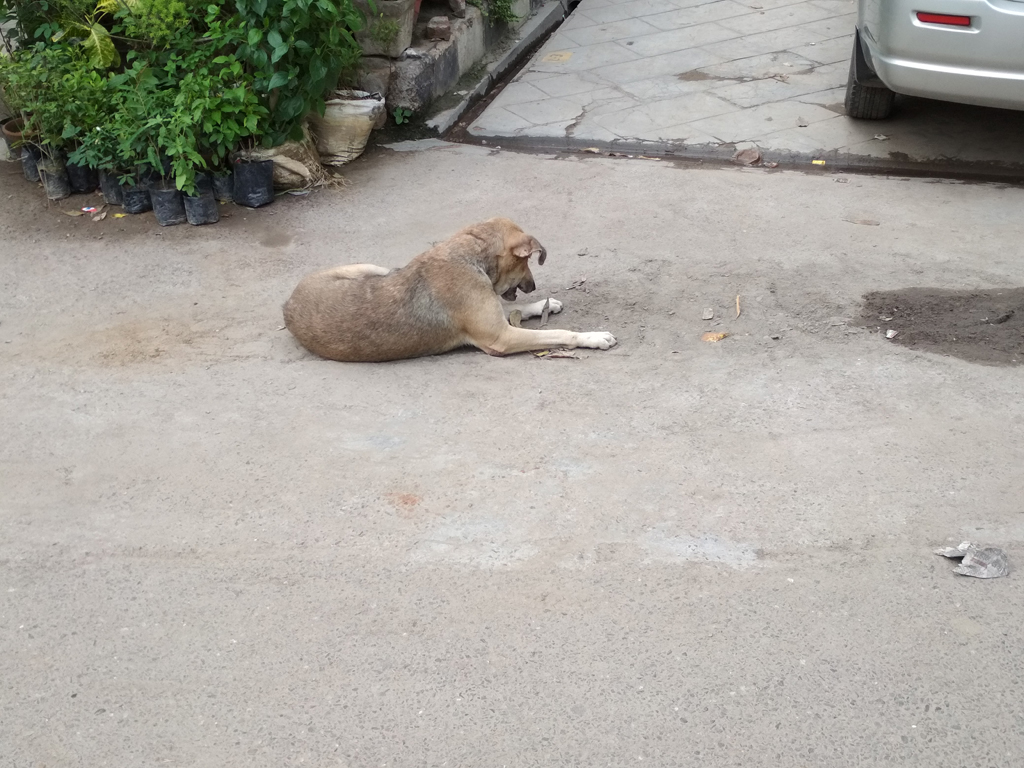dog: (283, 217, 617, 362)
